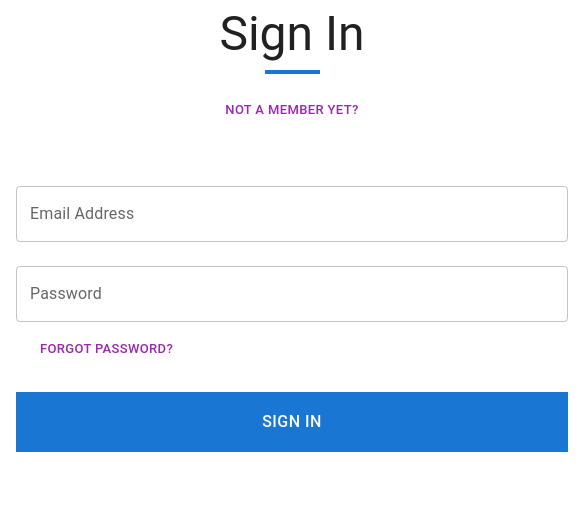
Test case: SignIn › should display email error when submitting an empty form
Click the button "Sign in". click: [292, 422]
box: left=16, top=392, right=568, bottom=452
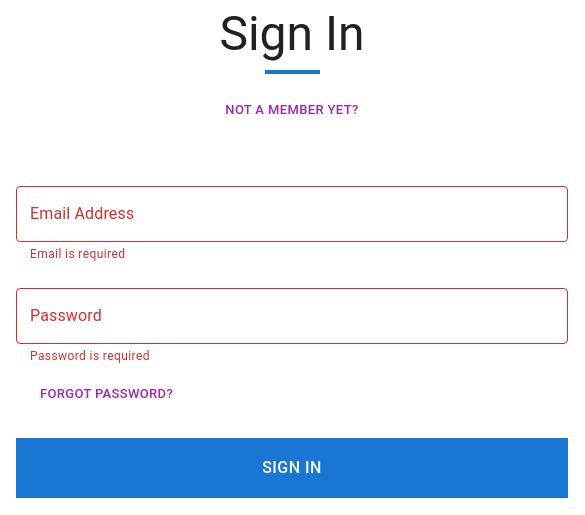
Check: the text "Email is required" is shown, box left=30, top=247, right=125, bottom=261
